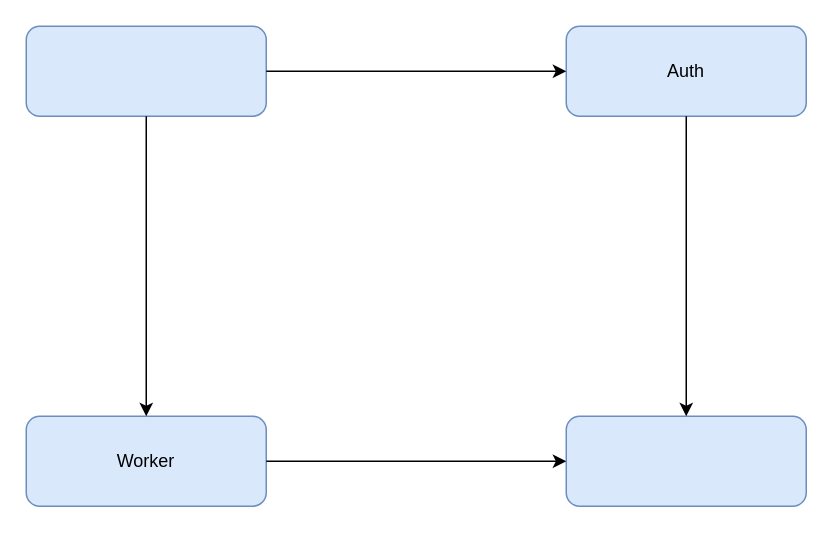
Some shapes in this 833 by 533 pixel diagram are drawn without their labels. The shapes that lost their labels are listed below. From the top down, each one's centre as x and y in pixels, then its label:
At (x=145, y=70): "API Gateway".
At (x=685, y=460): "Store".
